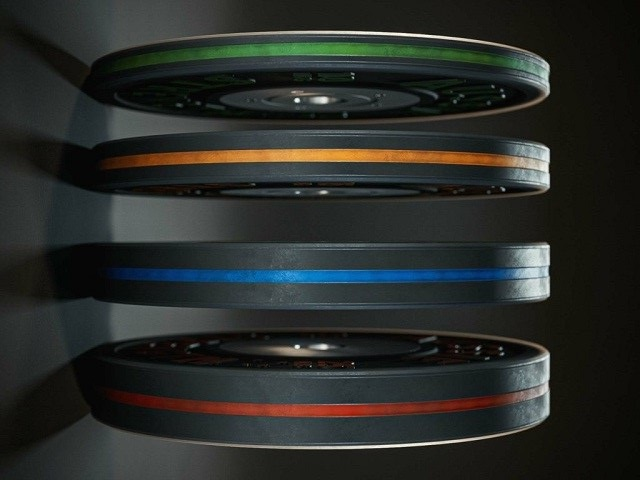weights: (86, 329, 550, 449), (89, 30, 551, 123), (90, 130, 551, 202), (89, 243, 551, 310)
